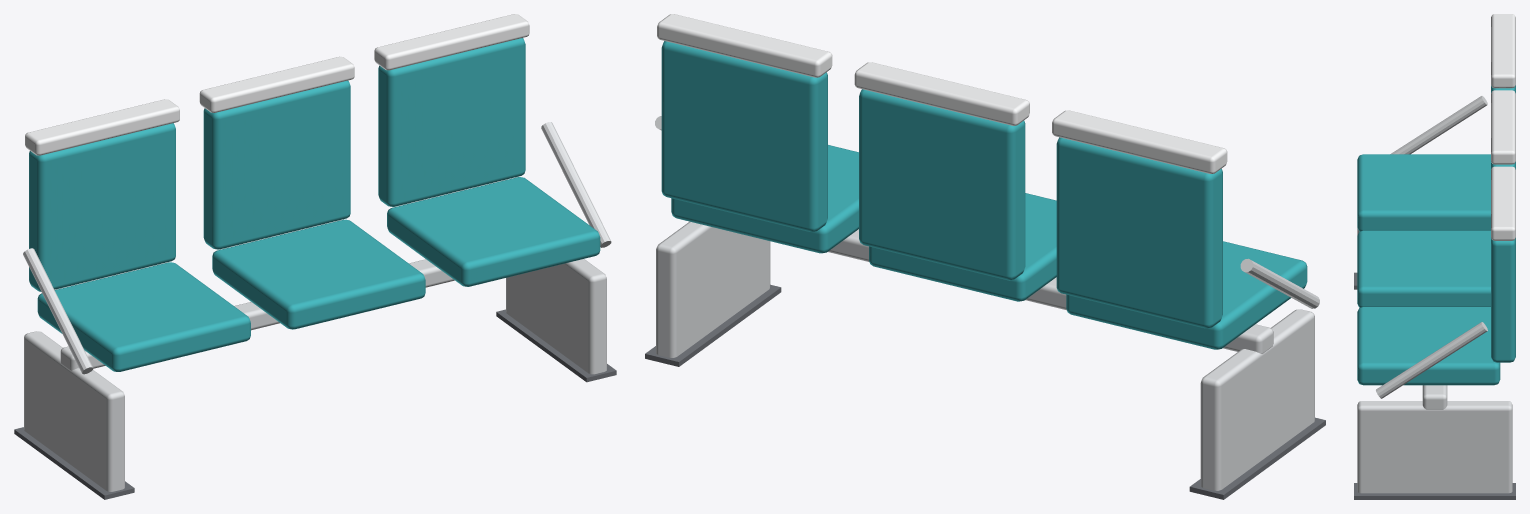
The model's file is waiting_chairs.glb.
The picture shows the model from 3 angles, left to right: view 1: azimuth 30°, elevation 25°; view 2: azimuth 150°, elevation 25°; view 3: azimuth 270°, elevation 25°; orthographic projection. The views are drawn at different scales.
Visible parts, largest first — view 1: waiting-chairs-run; view 2: waiting-chairs-run; view 3: waiting-chairs-run.
Boxes of the visible parts, x1,y1,x2,y2 form: waiting-chairs-run: [14, 14, 616, 499]; waiting-chairs-run: [645, 14, 1325, 499]; waiting-chairs-run: [1354, 14, 1515, 499].
Bounding box in the file's own units: 1.76 × 0.9501 × 0.52.
